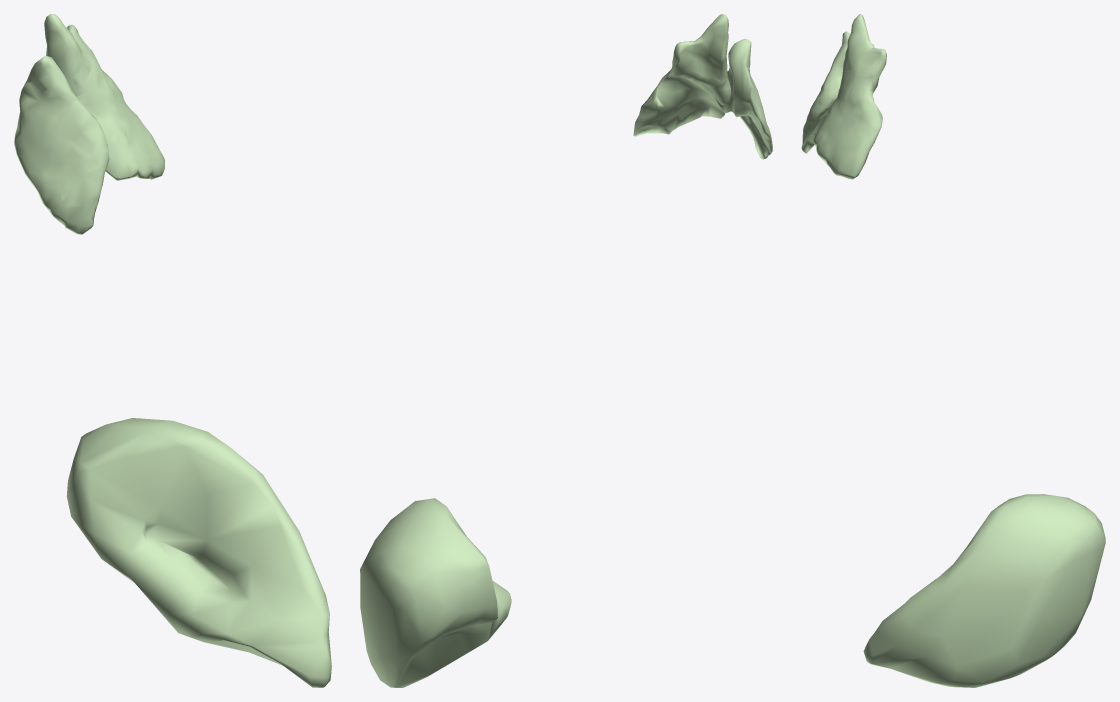
Rendered from immune.glb.
3 renders of one model, left to right at view 1: azimuth 30°, elevation 25°; view 2: azimuth 150°, elevation 25°; view 3: azimuth 270°, elevation 25°, orthographic. The views are drawn at different scales.
Visible parts, largest first — view 1: Spleen, Right lobe of thymus, Left lobe of thymus; view 2: Spleen, Left lobe of thymus, Right lobe of thymus; view 3: Spleen, Left lobe of thymus, Right lobe of thymus.
Boxes of the visible parts, bbox=[...] form: Spleen: bbox=[66, 418, 331, 687]; Right lobe of thymus: bbox=[14, 56, 109, 234]; Left lobe of thymus: bbox=[44, 14, 164, 180]; Spleen: bbox=[360, 498, 511, 687]; Left lobe of thymus: bbox=[633, 14, 730, 136]; Right lobe of thymus: bbox=[714, 39, 772, 159]; Spleen: bbox=[863, 494, 1105, 687]; Left lobe of thymus: bbox=[812, 14, 886, 179]; Right lobe of thymus: bbox=[801, 31, 850, 153].
Bounding box in the file's own units: 0.8479 × 1.72 × 0.839.
